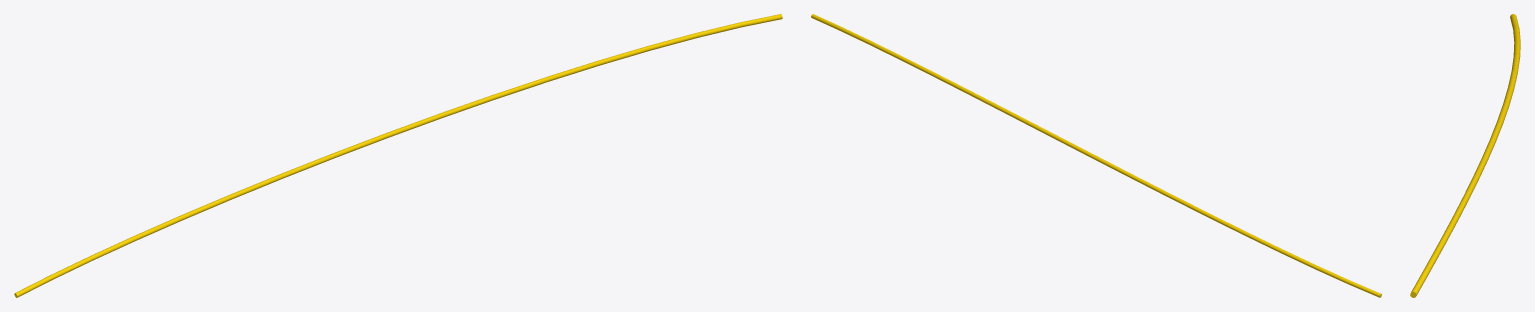
The model's file is Event_420094457_track_44.fbx.
3 renders of one model, left to right at view 1: azimuth 30°, elevation 25°; view 2: azimuth 150°, elevation 25°; view 3: azimuth 270°, elevation 25°, orthographic. The views are drawn at different scales.
Visible parts, largest first — view 1: Model; view 2: Model; view 3: Model.
Part boxes in pixels (bbox=[...]): Model: bbox=[14, 14, 782, 297]; Model: bbox=[811, 14, 1381, 297]; Model: bbox=[1410, 14, 1520, 297].
Bounding box in the file's own units: 6.38 × 1.14 × 0.6742.
